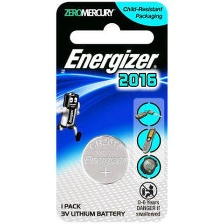battery: (78, 131, 130, 187)
book: (53, 1, 171, 222)
